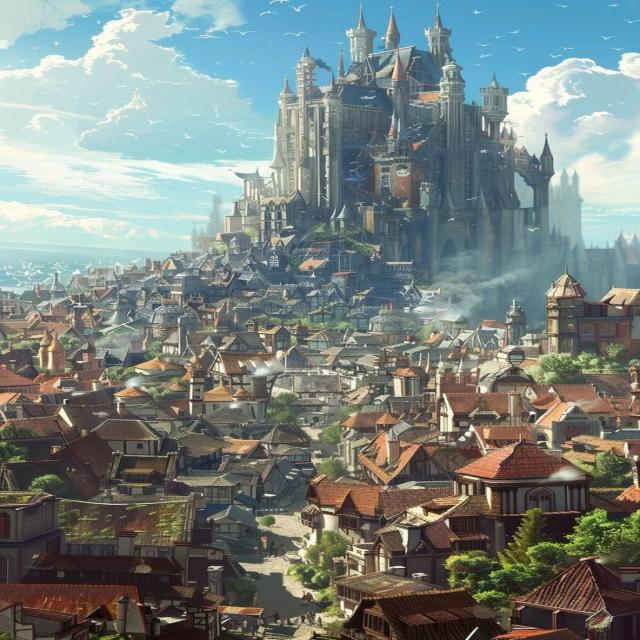castle: (138, 5, 581, 256)
